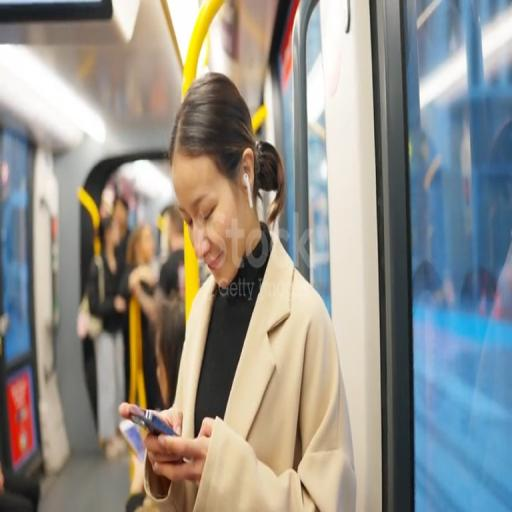earphone: (240, 162, 258, 220)
